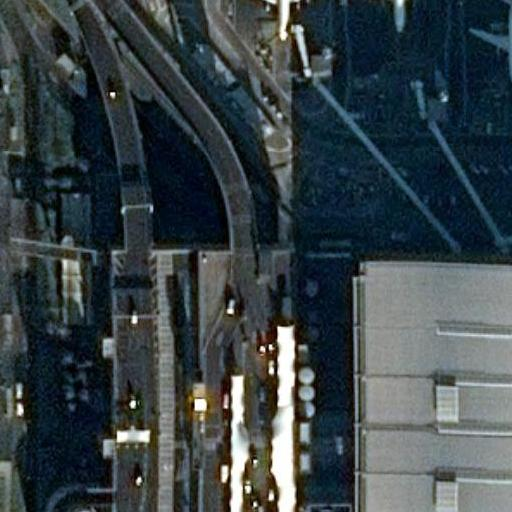Aircraft: (466, 0, 512, 85), (236, 0, 331, 41), (350, 0, 446, 32)
